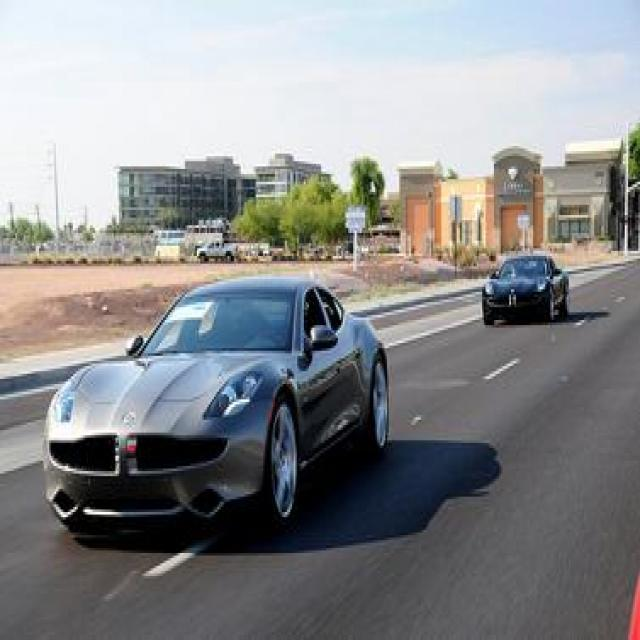Car: (48, 184, 422, 550)
